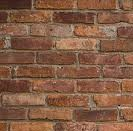brick: (75, 107, 120, 120), (72, 23, 115, 36), (29, 106, 73, 118), (9, 10, 52, 22), (47, 94, 90, 106), (12, 36, 54, 48), (33, 80, 75, 92), (77, 81, 119, 93), (1, 93, 43, 105), (38, 51, 76, 64), (56, 38, 97, 50), (93, 93, 133, 105), (57, 67, 100, 78), (31, 24, 72, 35), (79, 53, 120, 64), (1, 50, 35, 63), (15, 66, 55, 77), (97, 11, 133, 23), (9, 122, 56, 131), (53, 12, 94, 22), (100, 39, 133, 51), (1, 80, 32, 91), (1, 107, 27, 120), (1, 23, 28, 35), (104, 67, 133, 78), (77, 1, 119, 8), (56, 124, 98, 131), (34, 1, 76, 7), (1, 1, 33, 8), (99, 124, 133, 130), (118, 24, 133, 37), (120, 109, 133, 120), (119, 1, 133, 9), (122, 81, 133, 91), (124, 54, 133, 64), (1, 11, 8, 22), (1, 123, 8, 130)
